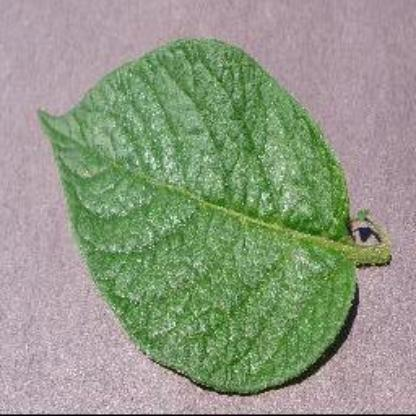Healthy-plant: (35, 32, 396, 395)
